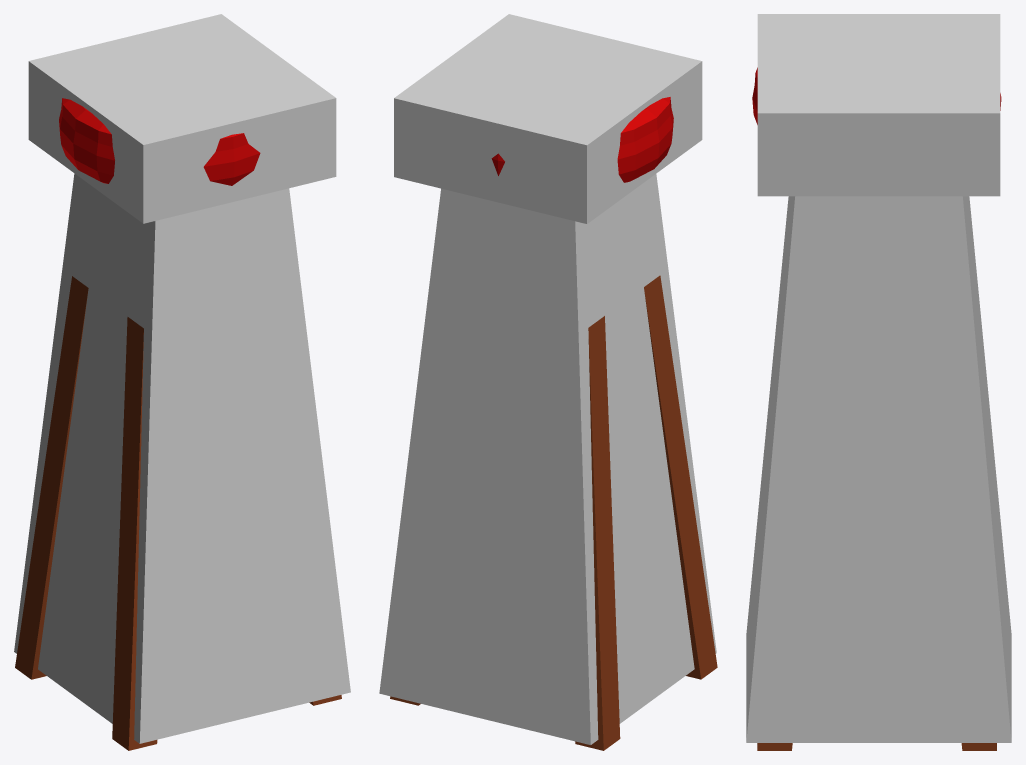
File: barhocker.fbx
The picture shows the model from 3 angles, left to right: view 1: azimuth 30°, elevation 25°; view 2: azimuth 150°, elevation 25°; view 3: azimuth 270°, elevation 25°; orthographic projection. The views are drawn at different scales.
Parts seen in each view (by area): view 1: Cube.002, barhocker; view 2: Cube.002, barhocker; view 3: Cube.002, barhocker.
Boxes of the visible parts, left/top/right/bottom form: Cube.002: left=14, top=14, right=350, bottom=743; barhocker: left=15, top=98, right=341, bottom=750; Cube.002: left=379, top=14, right=716, bottom=744; barhocker: left=390, top=97, right=717, bottom=750; Cube.002: left=746, top=14, right=1011, bottom=742; barhocker: left=752, top=67, right=1001, bottom=750.
Bounding box in the file's own units: 237 × 627 × 238.
